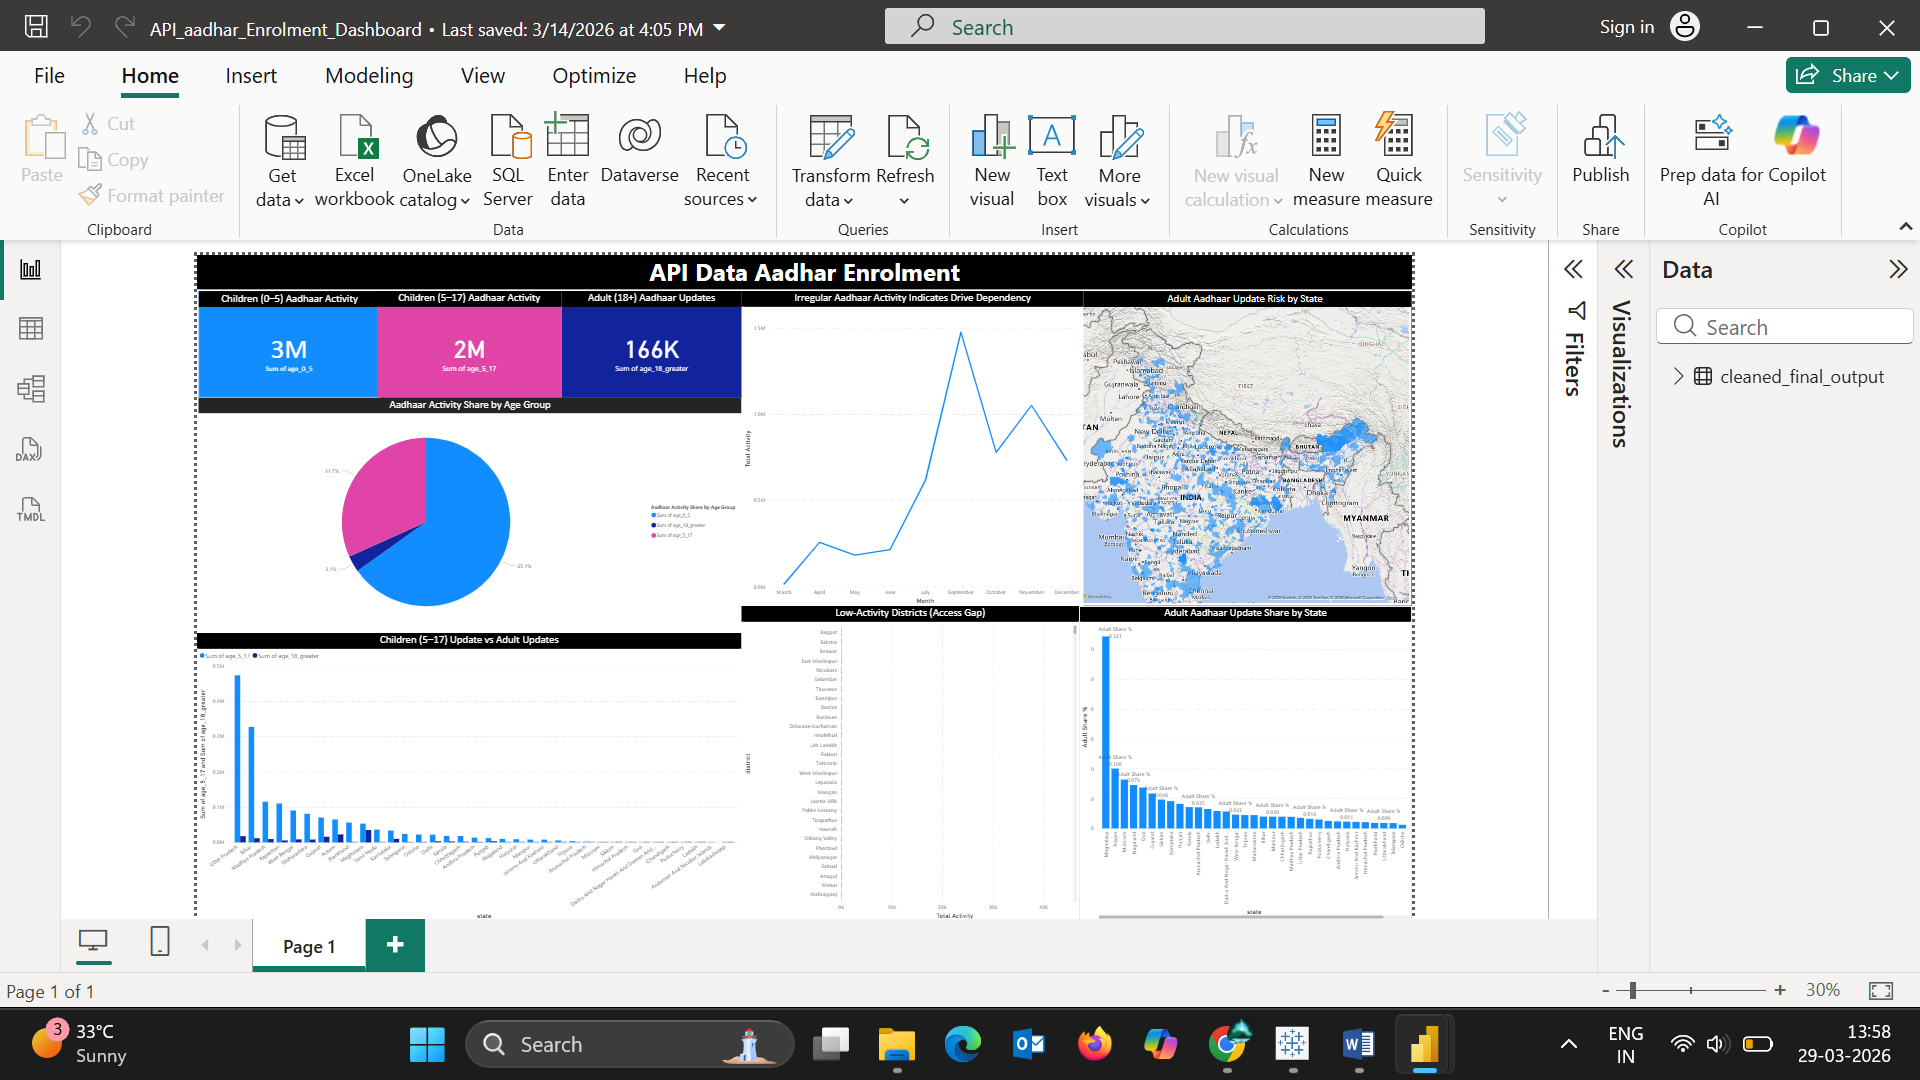

What the dashboard file says about the page in this screenshot:
{"tool":"powerbi","page":{"name":"Page 1","canvas":[2700,1480],"ordinal":0},"visuals":[{"type":"pieChart","title":"Aadhaar Activity Share by Age Group","fields":{"Y":["Sum(cleaned_final_output.age_0_5)","Sum(cleaned_final_output.age_18_greater)","Sum(cleaned_final_output.age_5_17)"]},"box":[3.3,316.7,1206.7,523.3],"z":0},{"type":"clusteredColumnChart","title":"Adult Aadhaar Update Share by State","fields":{"Category":["cleaned_final_output.state"],"Y":["cleaned_final_output.Adult Share %"]},"box":[1960,780,740,700],"z":1000},{"type":"filledMap","title":"Adult Aadhaar Update Risk by State","fields":{"Category":["cleaned_final_output.district"]},"box":[1957.1,80,742.9,700],"z":2000},{"type":"clusteredColumnChart","title":"Children (5–17) Update vs Adult Updates","fields":{"Category":["cleaned_final_output.state"],"Y":["Sum(cleaned_final_output.age_5_17)","Sum(cleaned_final_output.age_18_greater)"]},"box":[0,840,1210,640],"z":3000},{"type":"lineChart","title":"Irregular Aadhaar Activity Indicates Drive Dependency","fields":{"Category":["cleaned_final_output.date.Variation.Date Hierarchy.Month"],"Y":["cleaned_final_output.Total Activity"]},"box":[1210,80,760,700],"z":4000},{"type":"clusteredBarChart","title":"Low-Activity Districts (Access Gap)","fields":{"Category":["cleaned_final_output.district"],"Y":["cleaned_final_output.Total Activity"]},"box":[1210,780,750,700],"z":5000},{"type":"card","title":"Children (0–5) Aadhaar Activity","fields":{"Values":["Sum(cleaned_final_output.age_0_5)"]},"box":[3.3,80,403.3,236.7],"z":6000},{"type":"card","title":"Adult (18+) Aadhaar Updates","fields":{"Values":["Sum(cleaned_final_output.age_18_greater)"]},"box":[810,80,400,236.7],"z":7000},{"type":"card","title":"Children (5–17) Aadhaar Activity","fields":{"Values":["Sum(cleaned_final_output.age_5_17)"]},"box":[400,80,410,236.7],"z":8000},{"type":"textbox","title":"API Data Aadhar Enrolment","box":[0,0,2700,80],"z":9000}]}

Visuals, with their boxes on the page's 2700x1480 design canvas (x1, y1, x2, y2). These are canvas units, not pixel positions in the 1920x1080 screenshot, which may show the page scaled, cropped or inside an application window:
"Aadhaar Activity Share by Age Group" pieChart: l=3, t=317, r=1210, b=840
"Adult Aadhaar Update Share by State" clusteredColumnChart: l=1960, t=780, r=2700, b=1480
"Adult Aadhaar Update Risk by State" filledMap: l=1957, t=80, r=2700, b=780
"Children (5–17) Update vs Adult Updates" clusteredColumnChart: l=0, t=840, r=1210, b=1480
"Irregular Aadhaar Activity Indicates Drive Dependency" lineChart: l=1210, t=80, r=1970, b=780
"Low-Activity Districts (Access Gap)" clusteredBarChart: l=1210, t=780, r=1960, b=1480
"Children (0–5) Aadhaar Activity" card: l=3, t=80, r=407, b=317
"Adult (18+) Aadhaar Updates" card: l=810, t=80, r=1210, b=317
"Children (5–17) Aadhaar Activity" card: l=400, t=80, r=810, b=317
"API Data Aadhar Enrolment" textbox: l=0, t=0, r=2700, b=80
